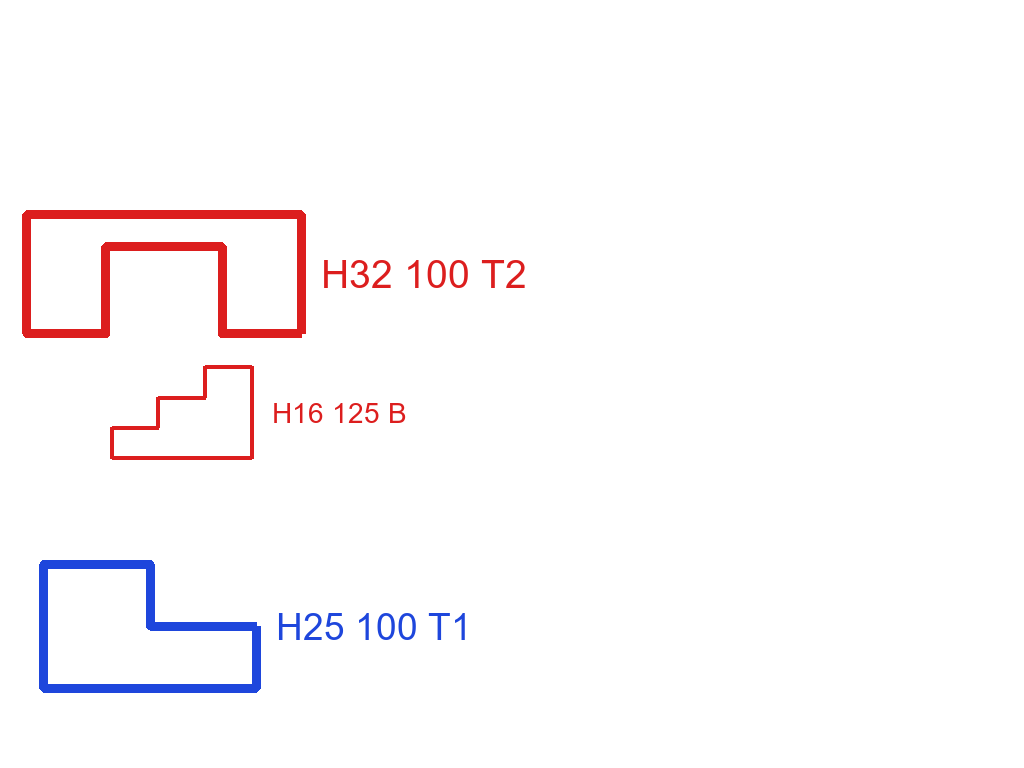shape: (20, 208, 308, 340), (37, 558, 263, 695), (108, 362, 256, 463)
text: (319, 258, 529, 290), (274, 611, 474, 642), (270, 401, 409, 425)
